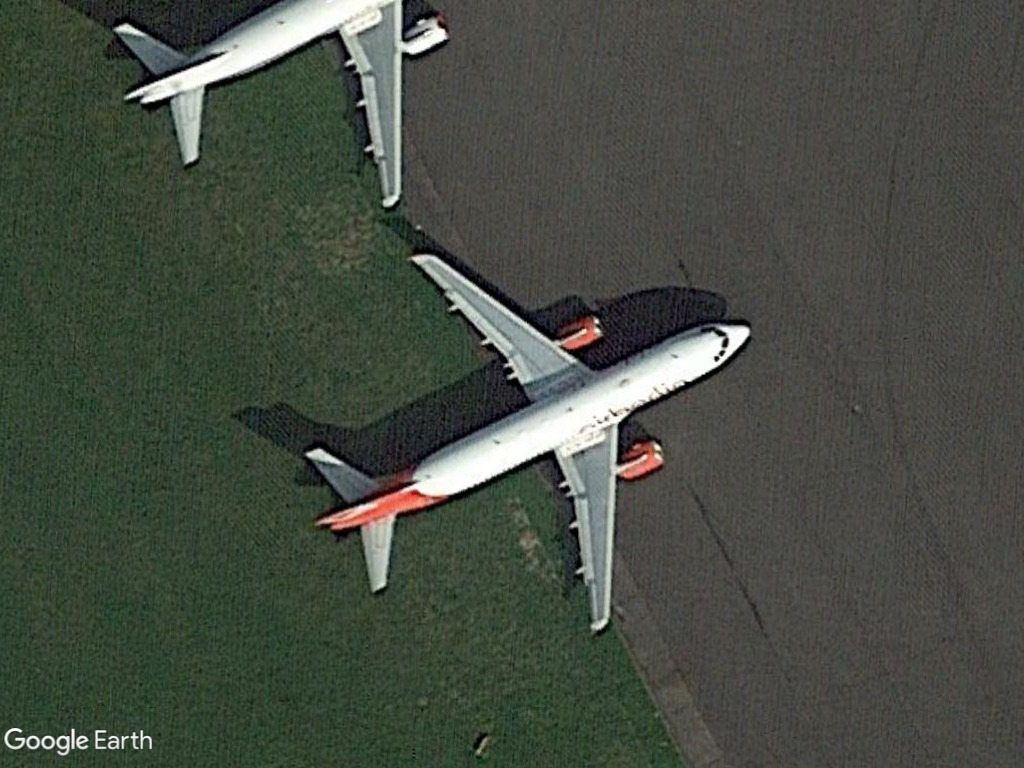airliner: (298, 247, 759, 642)
